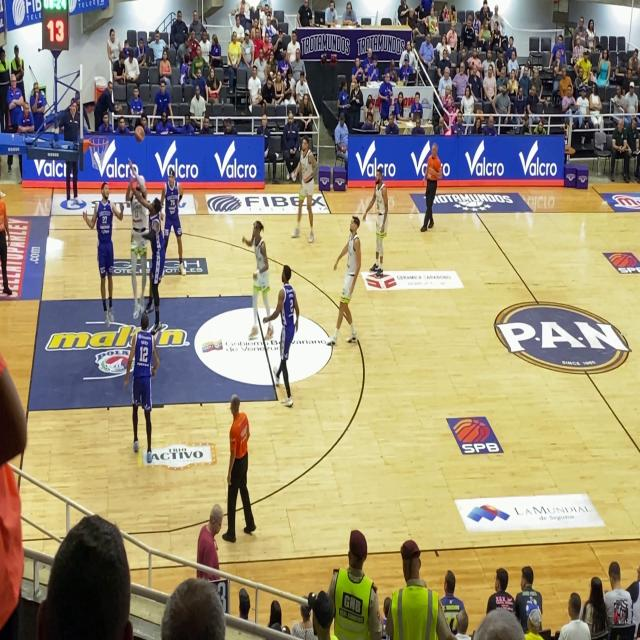Ball: (136, 125, 144, 146)
referee: (223, 396, 262, 549), (419, 143, 443, 240)
team1: (331, 212, 363, 353), (124, 163, 154, 312), (242, 212, 275, 343), (289, 125, 319, 249), (364, 166, 392, 293)
team2: (265, 250, 302, 408), (88, 175, 120, 322), (127, 308, 153, 474), (158, 162, 190, 273), (139, 184, 163, 327)
ubasket: (86, 134, 110, 172)
